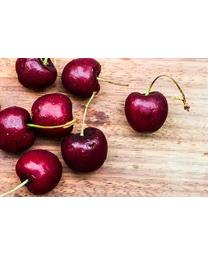cherry: (61, 126, 108, 174), (16, 148, 63, 194), (124, 92, 169, 135), (31, 93, 73, 138), (60, 58, 102, 98), (1, 106, 34, 155), (14, 58, 57, 91)
